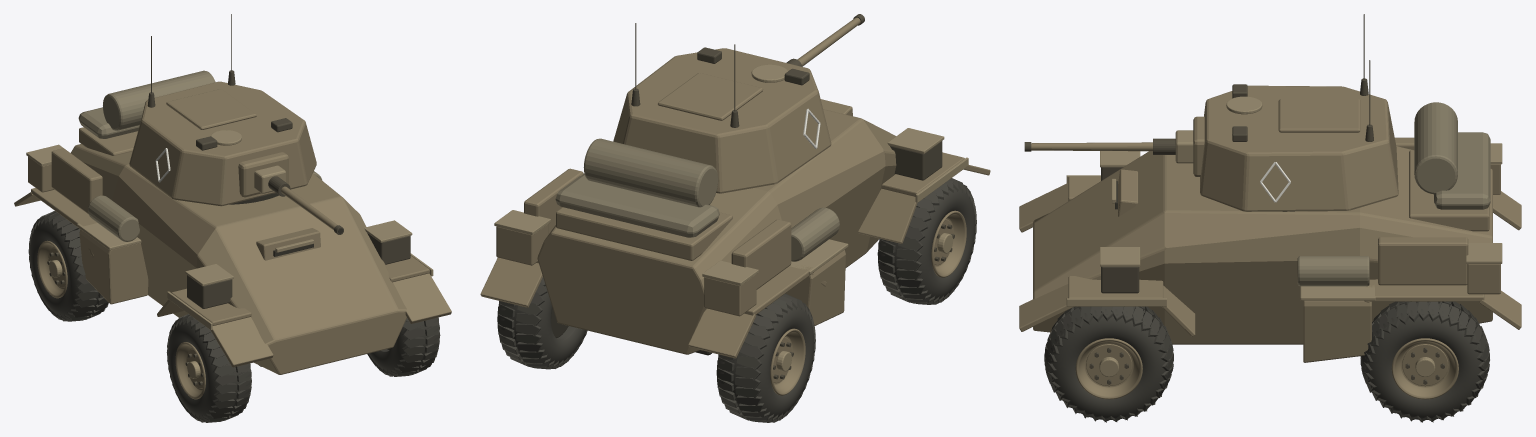
File: reference-armored-car-structural-v3.glb
The picture shows the model from 3 angles, left to right: view 1: azimuth 30°, elevation 25°; view 2: azimuth 150°, elevation 25°; view 3: azimuth 270°, elevation 25°; orthographic projection. The views are drawn at different scales.
Visible parts, largest first — view 1: faceted-hull-shell, angled-turret-plates, tapered-side-pannier--1, tire-left-front-chevron-treads, large-rear-tarpaulin-roll, tire-left-rear-chevron-treads, tire-left-front, closed-roof-hatch, tire-left-rear, front-fender-sloped-tip--1, tire-right-front-chevron-treads, front-fender-sloped-tip-1 (+25 smaller); view 2: faceted-hull-shell, angled-turret-plates, large-rear-tarpaulin-roll, folded-rear-blanket, tire-left-rear-chevron-treads, tire-left-front-chevron-treads, rear-engine-deck, tire-left-rear, tire-left-front, closed-roof-hatch, tire-right-rear-chevron-treads, tapered-side-pannier--1 (+24 smaller); view 3: faceted-hull-shell, angled-turret-plates, tire-right-rear, tire-right-front, tapered-side-pannier-1, tire-right-rear-chevron-treads, tire-right-front-chevron-treads, large-rear-tarpaulin-roll, folded-rear-blanket, closed-roof-hatch, side-canvas-roll-1, rear-engine-deck (+28 smaller).
Part boxes in pixels (left/top/right/bottom): faceted-hull-shell: left=71, top=144, right=406, bottom=374; angled-turret-plates: left=129, top=81, right=316, bottom=206; tapered-side-pannier--1: left=79, top=229, right=148, bottom=304; tire-left-front-chevron-treads: left=166, top=314, right=251, bottom=422; large-rear-tarpaulin-roll: left=103, top=70, right=215, bottom=130; tire-left-rear-chevron-treads: left=28, top=211, right=108, bottom=321; tire-left-front: left=168, top=322, right=250, bottom=417; closed-roof-hatch: left=166, top=89, right=256, bottom=129; tire-left-rear: left=30, top=220, right=107, bottom=316; front-fender-sloped-tip--1: left=211, top=317, right=273, bottom=367; tire-right-front-chevron-treads: left=367, top=317, right=440, bottom=376; front-fender-sloped-tip-1: left=393, top=273, right=451, bottom=323; faceted-hull-shell: left=537, top=109, right=896, bottom=354; angled-turret-plates: left=613, top=48, right=831, bottom=193; large-rear-tarpaulin-roll: left=583, top=138, right=718, bottom=207; folded-rear-blanket: left=555, top=175, right=719, bottom=237; tire-left-rear-chevron-treads: left=716, top=293, right=815, bottom=422; tire-left-front-chevron-treads: left=877, top=178, right=976, bottom=304; rear-engine-deck: left=556, top=207, right=732, bottom=260; tire-left-rear: left=718, top=305, right=814, bottom=417; tire-left-front: left=879, top=187, right=975, bottom=299; closed-roof-hatch: left=658, top=73, right=763, bottom=120; tire-right-rear-chevron-treads: left=497, top=277, right=587, bottom=369; tapered-side-pannier--1: left=785, top=250, right=845, bottom=325; faceted-hull-shell: left=1033, top=146, right=1492, bottom=344; angled-turret-plates: left=1200, top=85, right=1398, bottom=211; tire-right-rear: left=1364, top=301, right=1485, bottom=419; tire-right-front: left=1048, top=306, right=1169, bottom=419; tapered-side-pannier-1: left=1303, top=300, right=1371, bottom=362; tire-right-rear-chevron-treads: left=1360, top=301, right=1489, bottom=422; tire-right-front-chevron-treads: left=1044, top=306, right=1173, bottom=422; large-rear-tarpaulin-roll: left=1414, top=102, right=1457, bottom=194; folded-rear-blanket: left=1434, top=132, right=1490, bottom=209; closed-roof-hatch: left=1278, top=99, right=1360, bottom=132; side-canvas-roll-1: left=1297, top=256, right=1369, bottom=286; rear-engine-deck: left=1409, top=150, right=1489, bottom=231.
Size of the model in its own units: 2.76 by 3.32 by 4.61.
